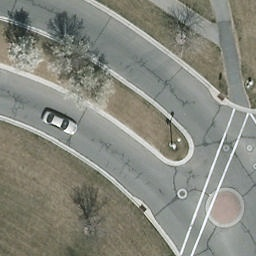car: (40, 108, 78, 137)
